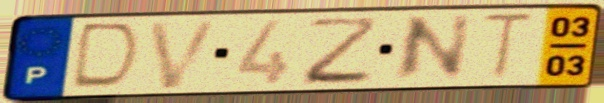4: (232, 18, 293, 87)
D: (66, 20, 145, 92)
N: (389, 12, 476, 86)
T: (478, 11, 541, 83)
V: (144, 17, 226, 92)
Z: (302, 14, 382, 87)
